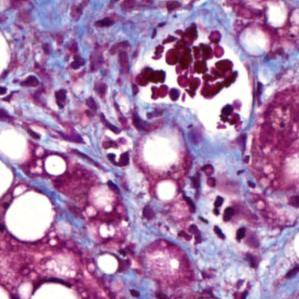steatosis: (6, 192, 59, 241), (141, 133, 179, 169)
